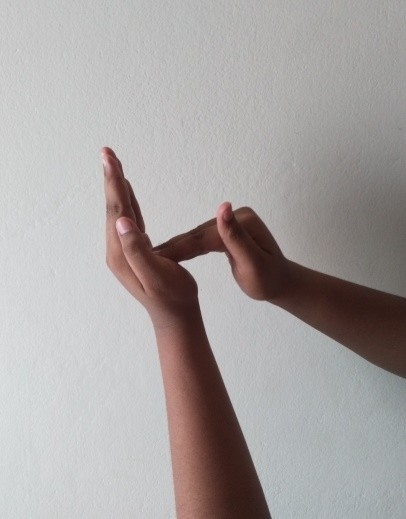ga: (101, 141, 286, 311)
